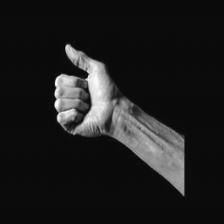five: (52, 42, 136, 143)
